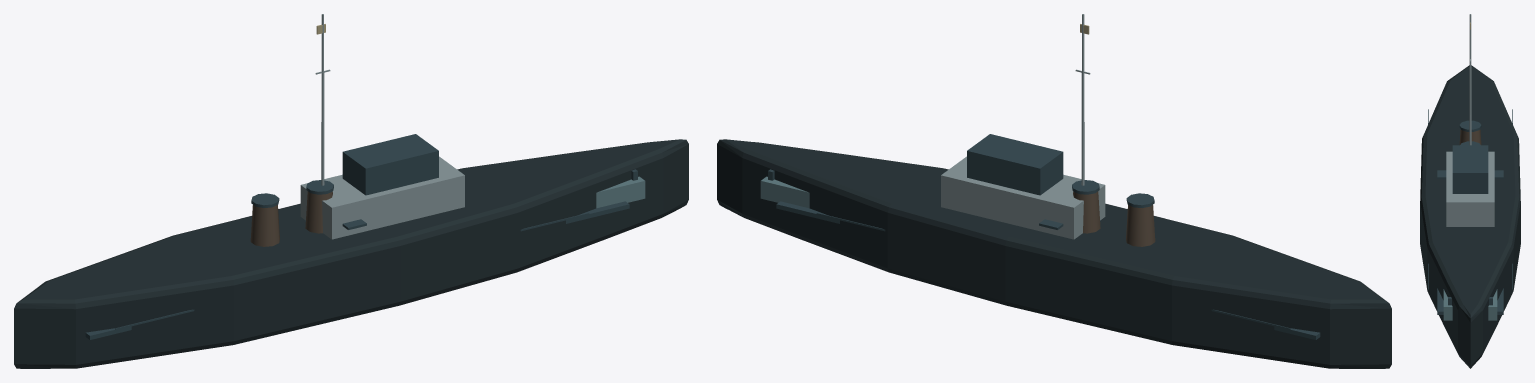
Rendered from battleship.glb.
The picture shows the model from 3 angles, left to right: view 1: azimuth 30°, elevation 25°; view 2: azimuth 150°, elevation 25°; view 3: azimuth 270°, elevation 25°; orthographic projection. The views are drawn at different scales.
Parts seen in each view (by area): view 1: hull, bridge, bridge_wheelhouse, funnel (×2), forecastle, deck, mast; view 2: hull, bridge, bridge_wheelhouse, funnel (×2), forecastle, deck, mast; view 3: hull, bridge, bridge_wheelhouse, forecastle, mast, deck, funnel, funnel_cap.
Part boxes in pixels (<box>): hull: <box>14,139,688,368</box>; bridge: <box>300,156,464,239</box>; bridge_wheelhouse: <box>342,134,438,195</box>; funnel (×2): <box>250,191,332,246</box>; forecastle: <box>596,176,645,208</box>; deck: <box>85,201,629,339</box>; mast: <box>321,14,324,185</box>; hull: <box>717,139,1391,368</box>; bridge: <box>941,156,1105,239</box>; bridge_wheelhouse: <box>967,134,1063,195</box>; funnel (×2): <box>1073,191,1155,246</box>; forecastle: <box>760,176,809,208</box>; deck: <box>776,201,1320,339</box>; mast: <box>1081,14,1084,185</box>; hull: <box>1420,65,1520,368</box>; bridge: <box>1446,151,1494,226</box>; bridge_wheelhouse: <box>1452,145,1488,193</box>; forecastle: <box>1443,289,1497,320</box>; mast: <box>1469,14,1471,145</box>; deck: <box>1437,288,1503,314</box>; funnel: <box>1459,129,1481,144</box>; funnel_cap: <box>1459,120,1481,131</box>.
Size of the model in its own units: 20.68 by 8.24 by 3.44.
